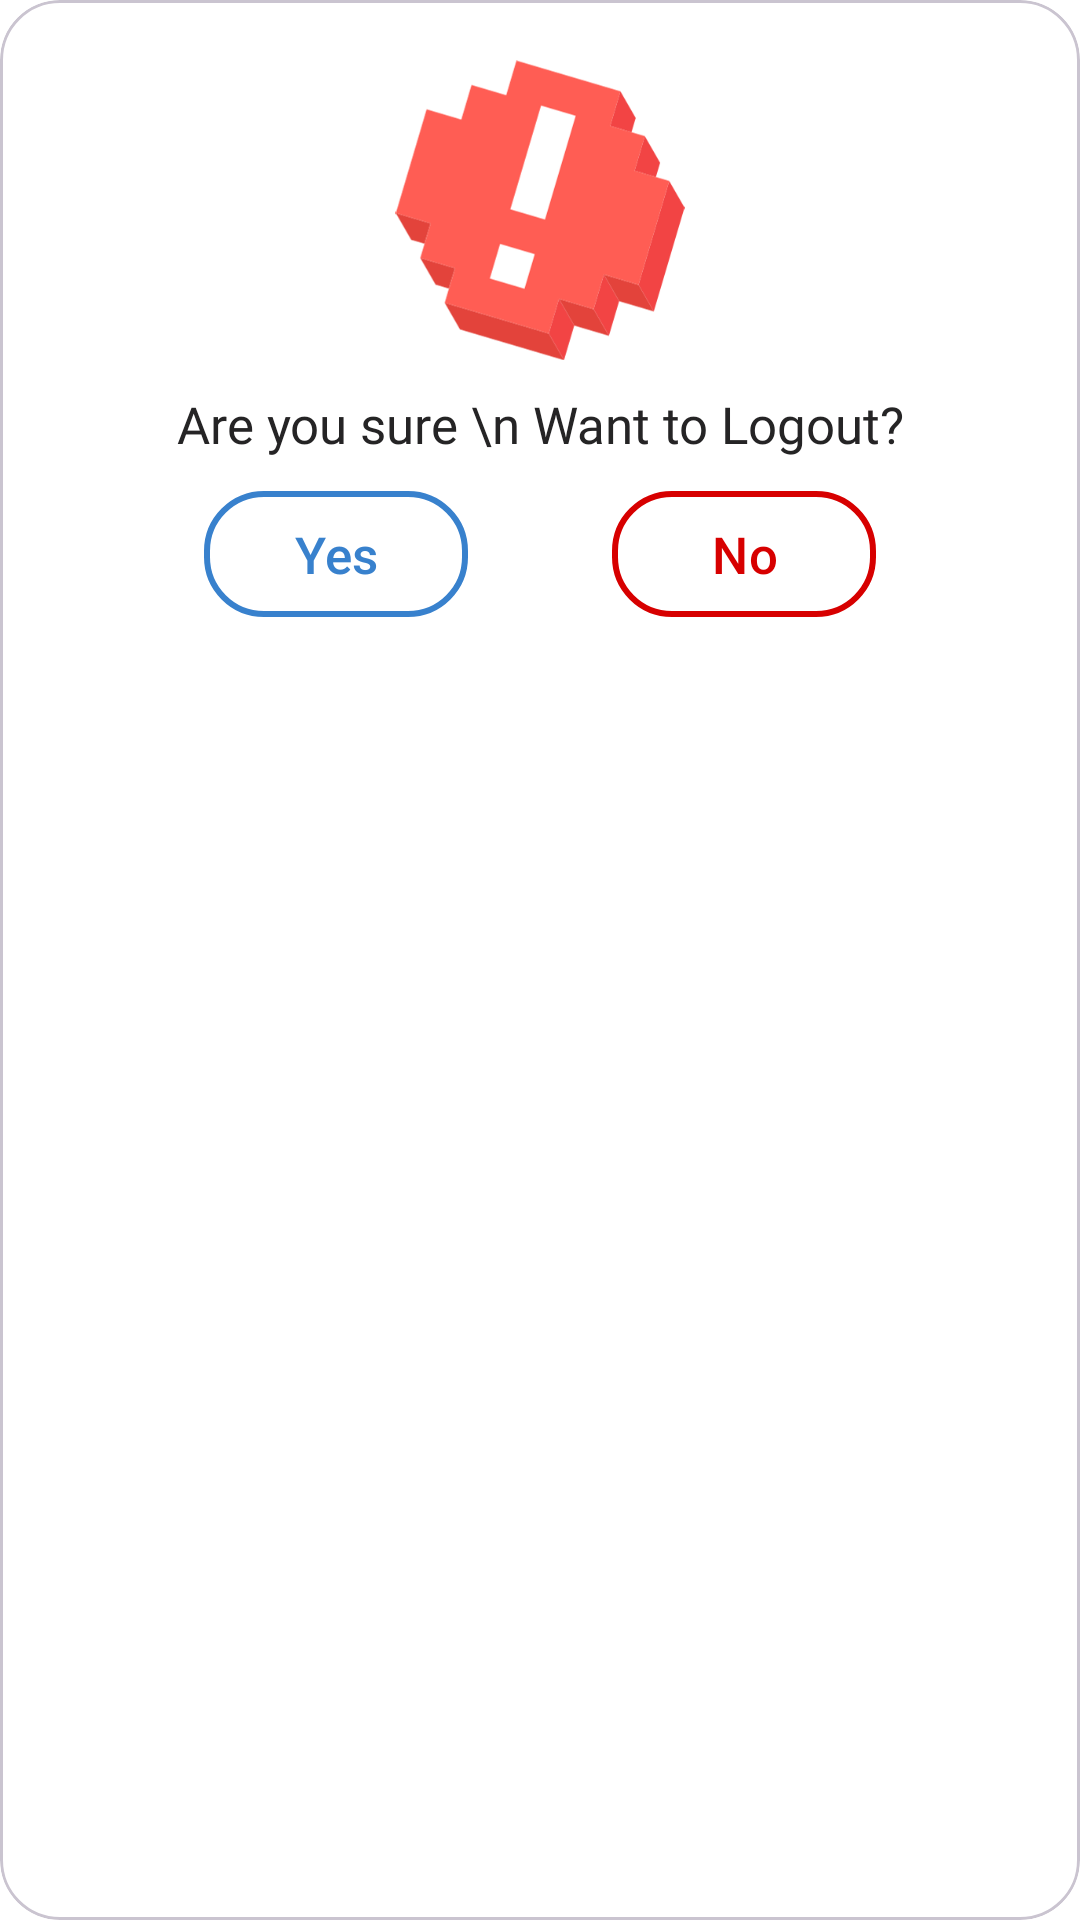

Screen size 1080px×1920px. Icon name, then its center in pixels as (x=x, y=y):
warning: (x=540, y=210)
